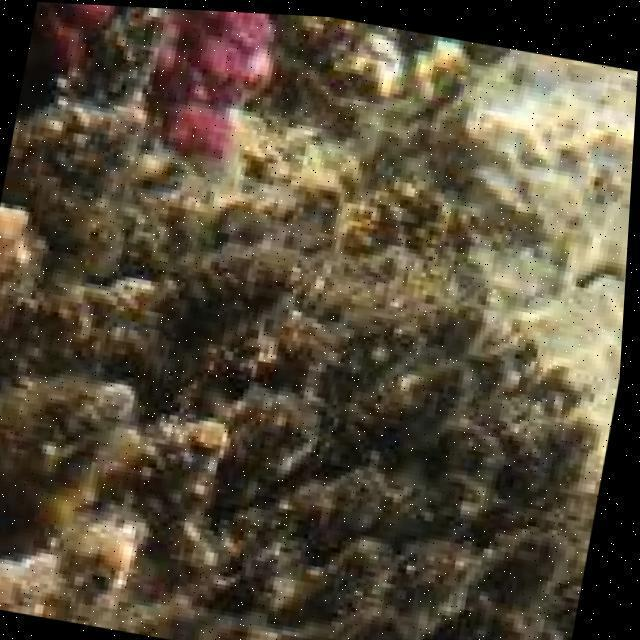Dead Coral: (0, 189, 609, 639)
Healthy Coral: (148, 7, 275, 159)
